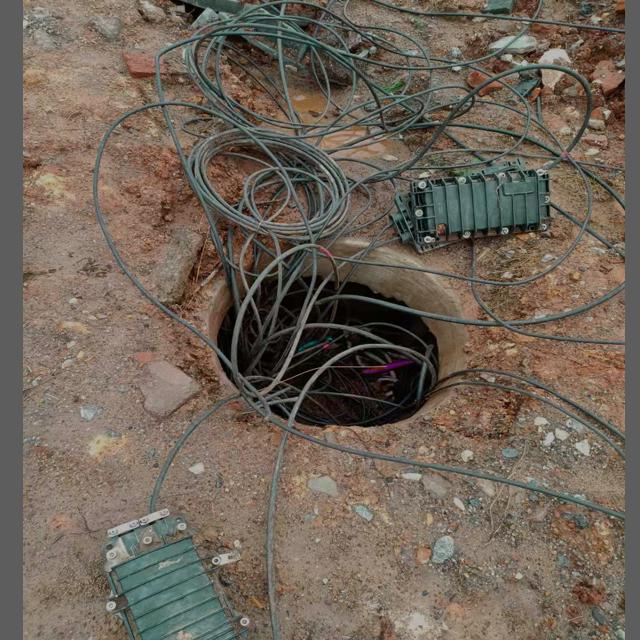lose: (201, 245, 467, 427)
